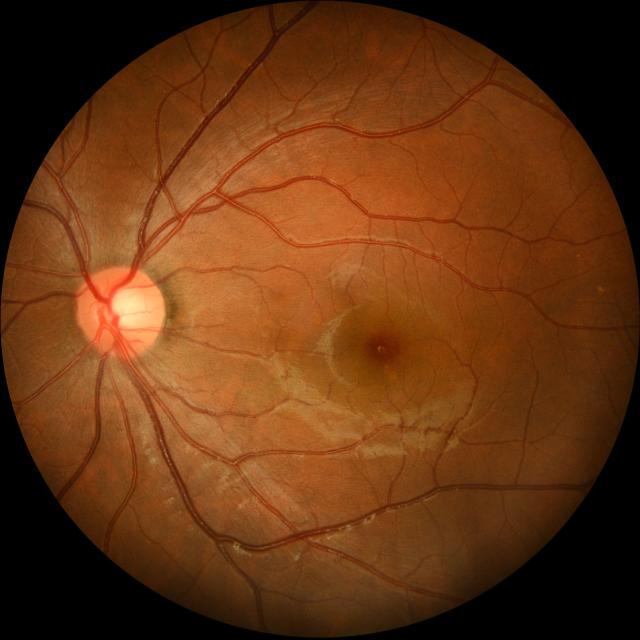OC: (104, 286, 146, 333)
OD: (75, 264, 165, 357)
